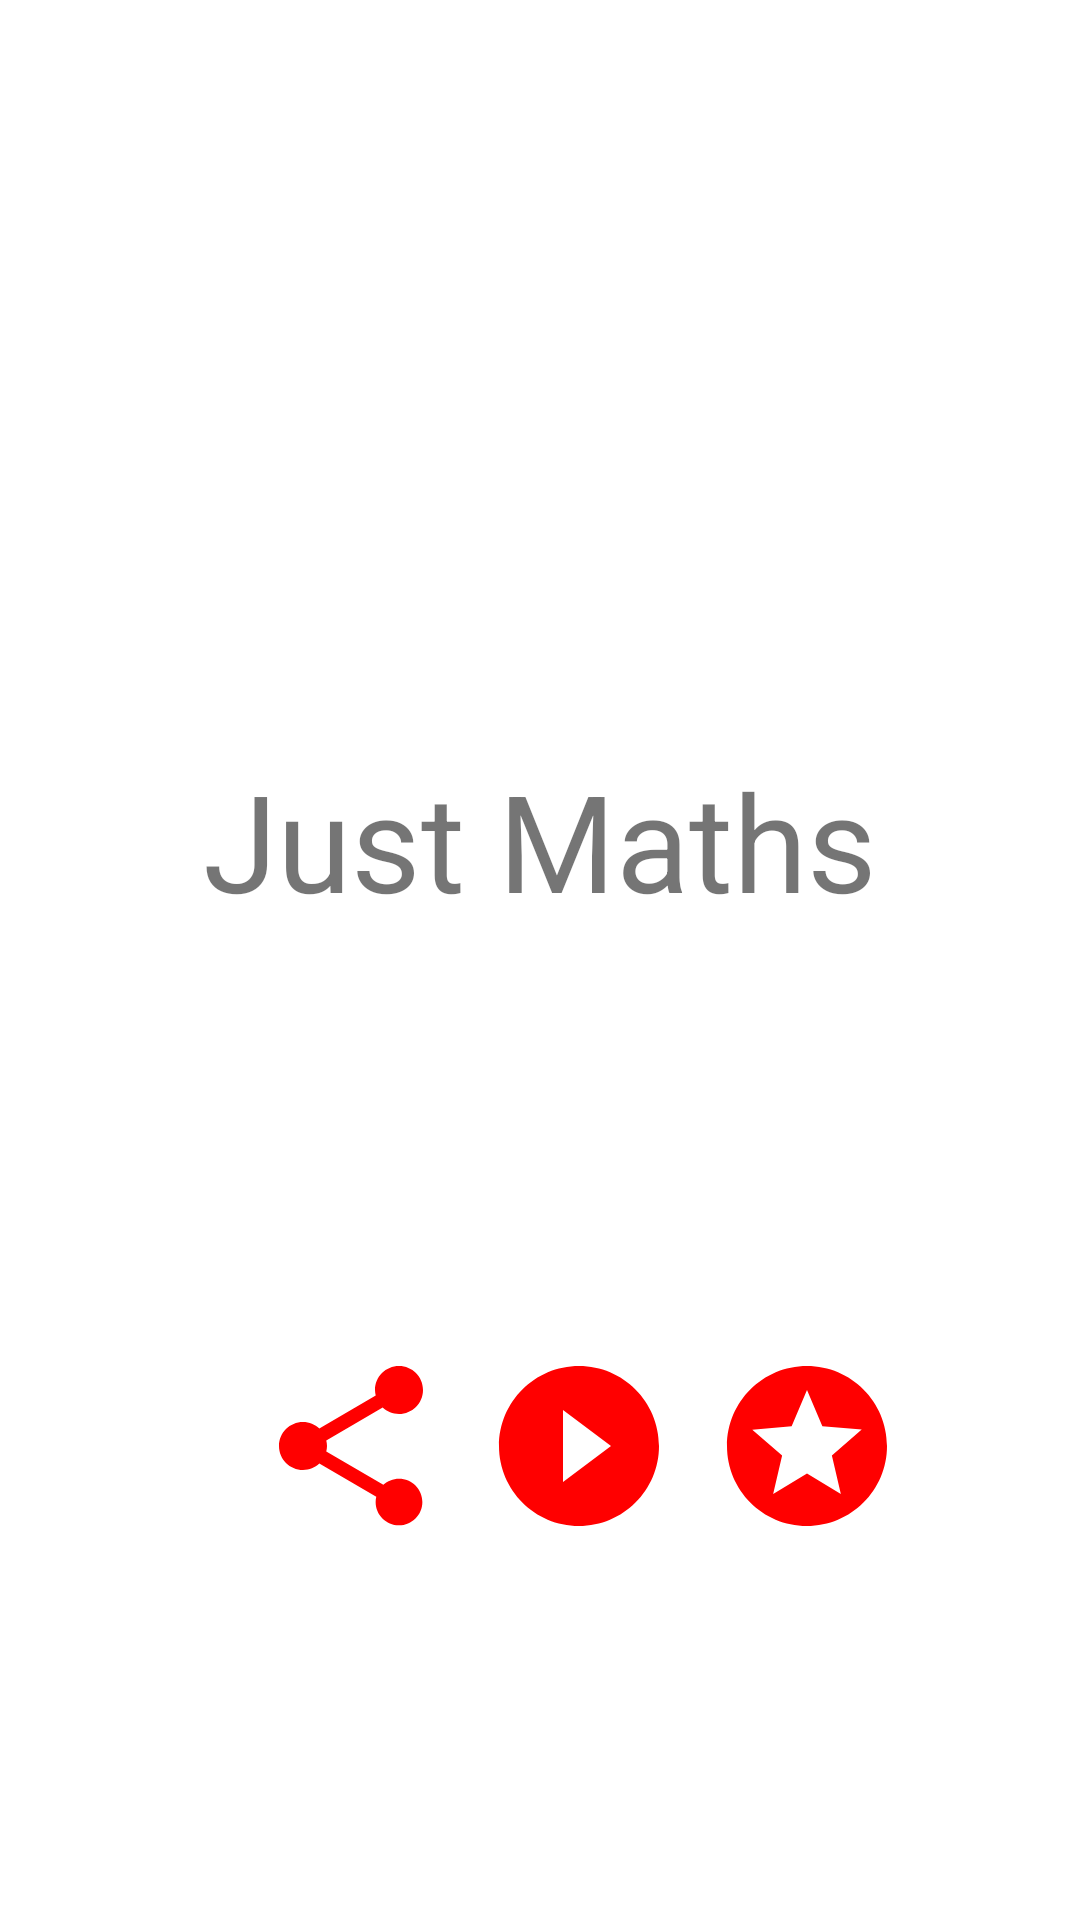

Locate icon controls on the screen. Image size 1080x1920, boxes as (x1,y1,x2,y2).
play circle: (498,1366,659,1526)
share: (279,1366,423,1526)
stars: (727,1366,887,1526)
